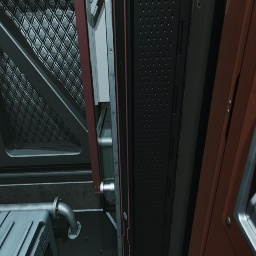SafetySwitchPanel ,: (85, 0, 110, 105)
